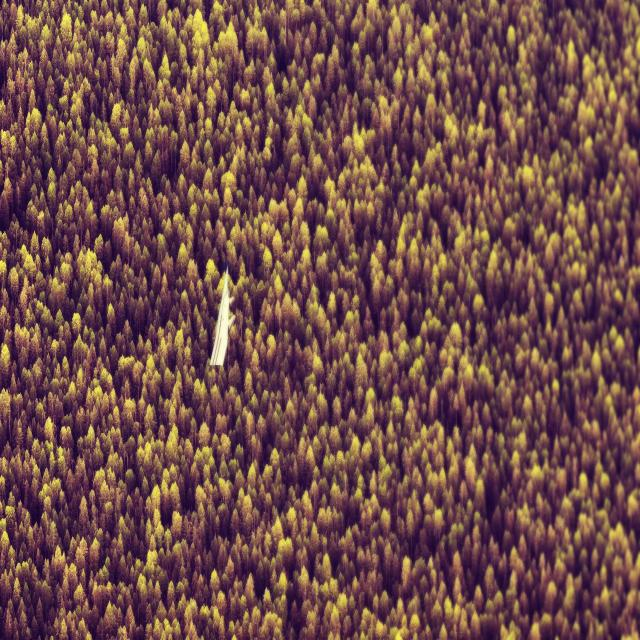airplane: (209, 266, 236, 368)
